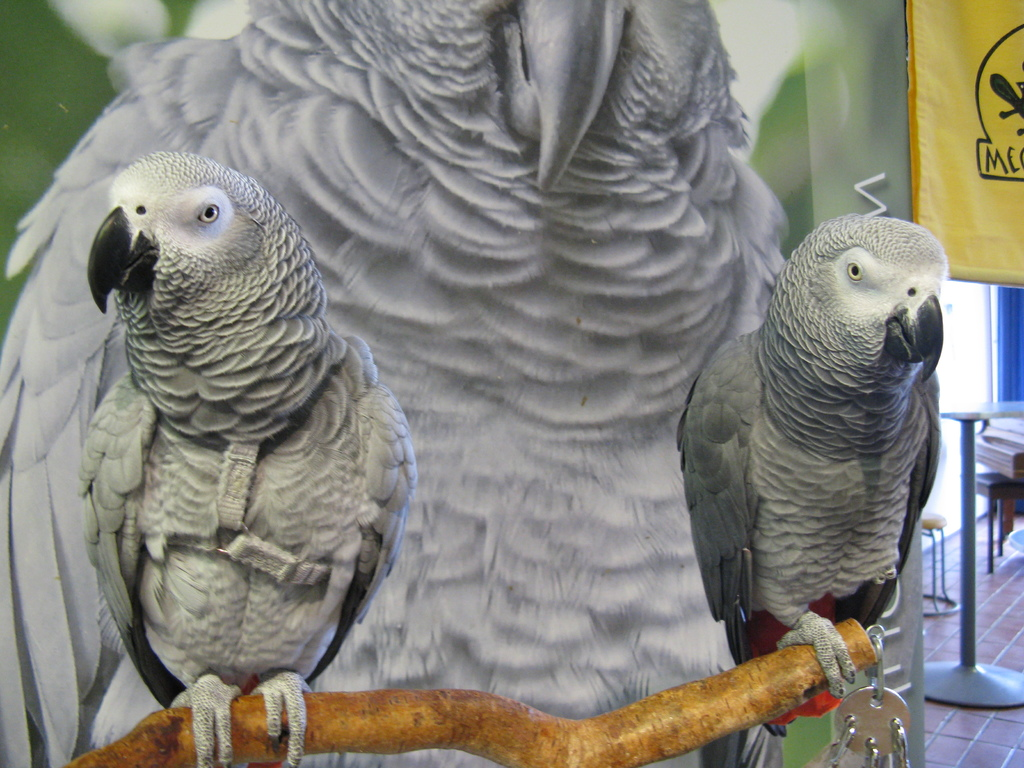Bird: (0, 0, 789, 768), (75, 149, 419, 768), (675, 211, 952, 741)
